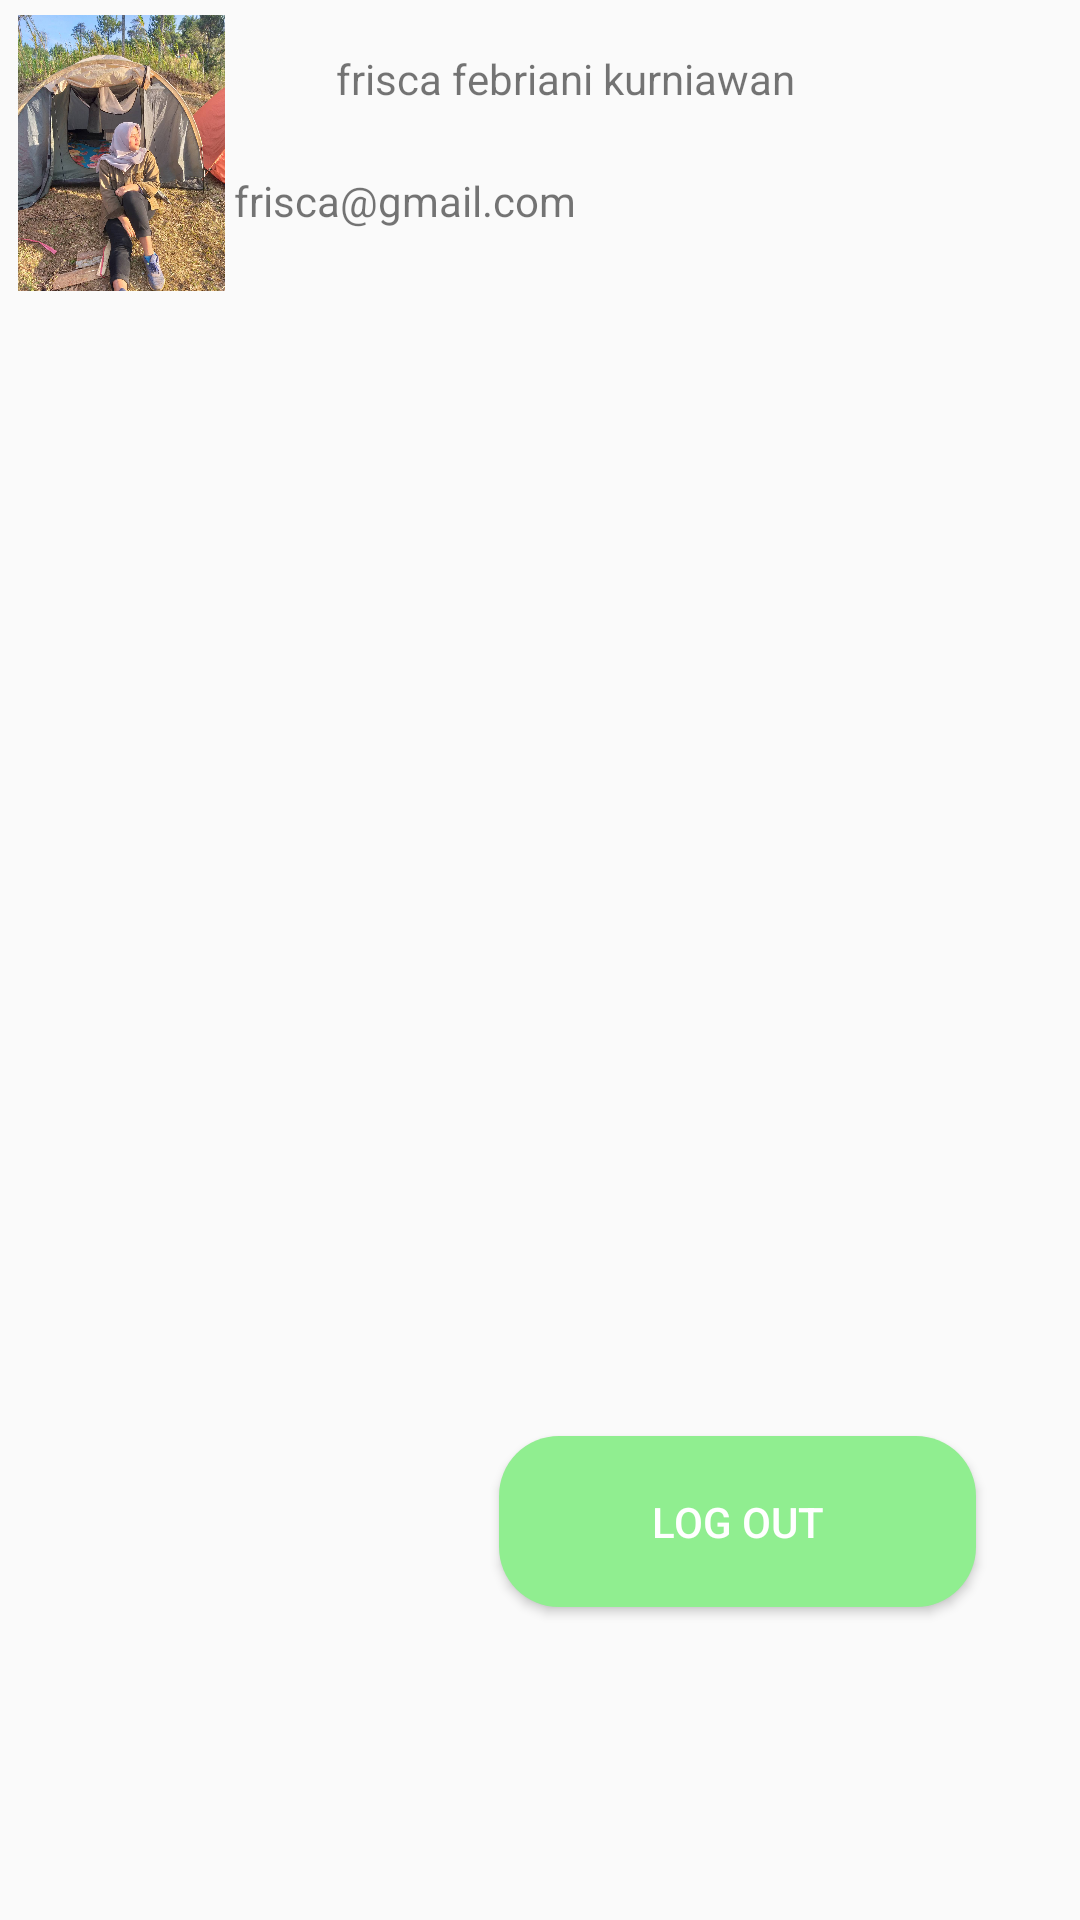

Screen size 1080×1920. Icon name, then its box in pixels as (x1, y1, x2, y2):
user: (18, 15, 225, 291)
